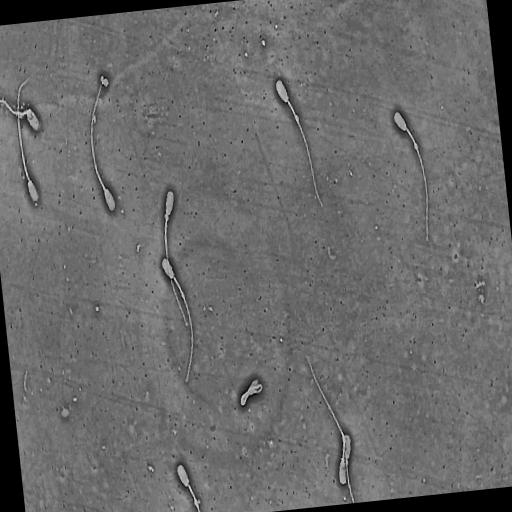coiled-tail: (239, 384, 263, 407)
distal-droplet: (414, 142, 419, 151), (342, 434, 346, 445), (295, 114, 299, 122), (194, 500, 198, 508), (180, 291, 184, 298)
folded-tail: (0, 99, 27, 115)
normal: (274, 75, 326, 209), (306, 356, 348, 488), (392, 107, 431, 245), (160, 255, 195, 387), (89, 75, 118, 214), (162, 188, 189, 332), (16, 75, 40, 204), (0, 96, 41, 133), (175, 461, 202, 512), (341, 432, 356, 503), (238, 374, 264, 410)
proximal-droplet: (165, 212, 168, 221), (345, 458, 348, 466)
